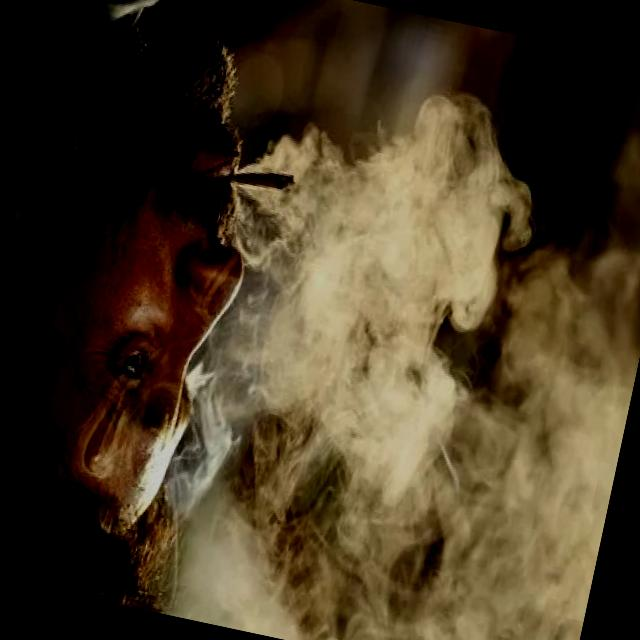smoke: (220, 159, 296, 203)
